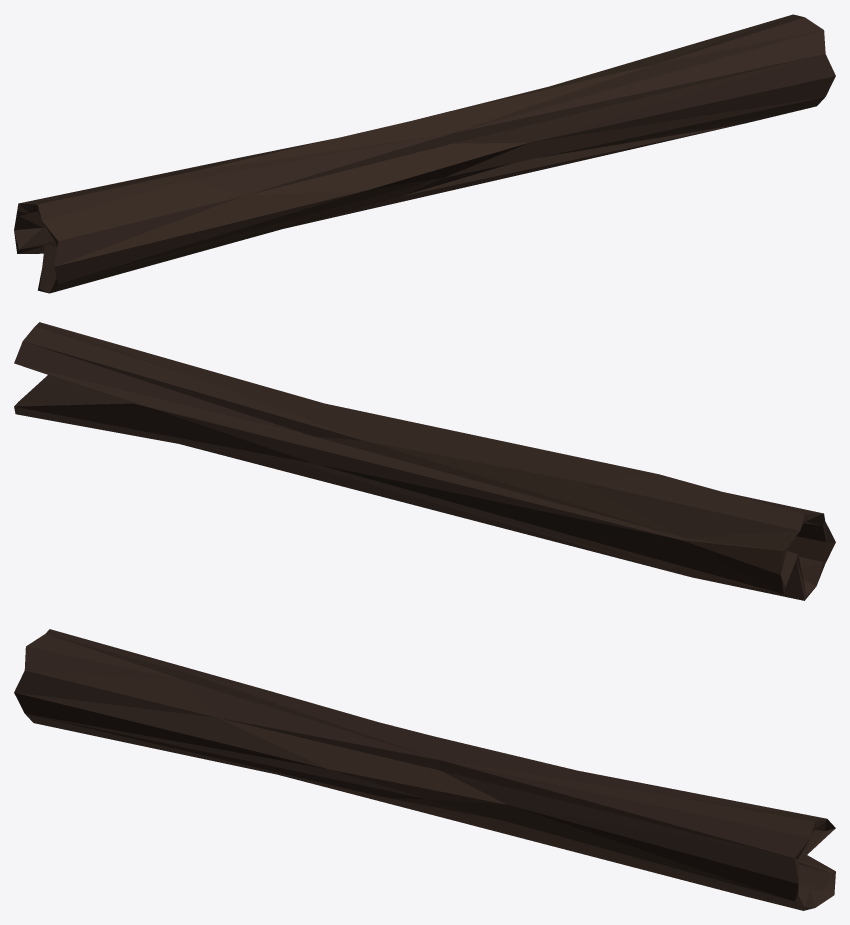
File: Log.fbx
The picture shows the model from 3 angles, top to bottom: view 1: azimuth 30°, elevation 25°; view 2: azimuth 150°, elevation 25°; view 3: azimuth 330°, elevation 25°; orthographic projection.
Parts seen in each view (by area): view 1: Log; view 2: Log; view 3: Log.
Boxes of the visible parts, x1,y1,x2,y2 form: Log: (14,14,835,293); Log: (14,322,835,600); Log: (14,629,835,910).
Size of the model in its own units: 19.03 by 2 by 2.
